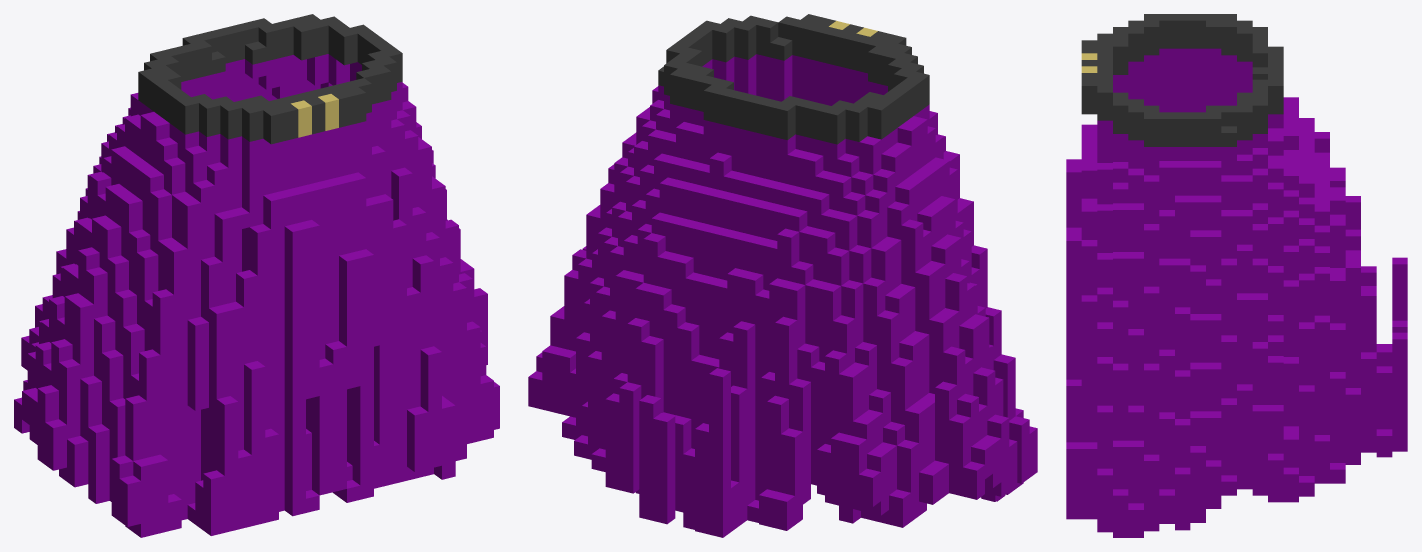
The picture shows the model from 3 angles, left to right: view 1: azimuth 30°, elevation 25°; view 2: azimuth 150°, elevation 25°; view 3: azimuth 270°, elevation 25°; orthographic projection. The views are drawn at different scales.
Bounding box in the file's own units: 1.6 × 1.4 × 1.1.
